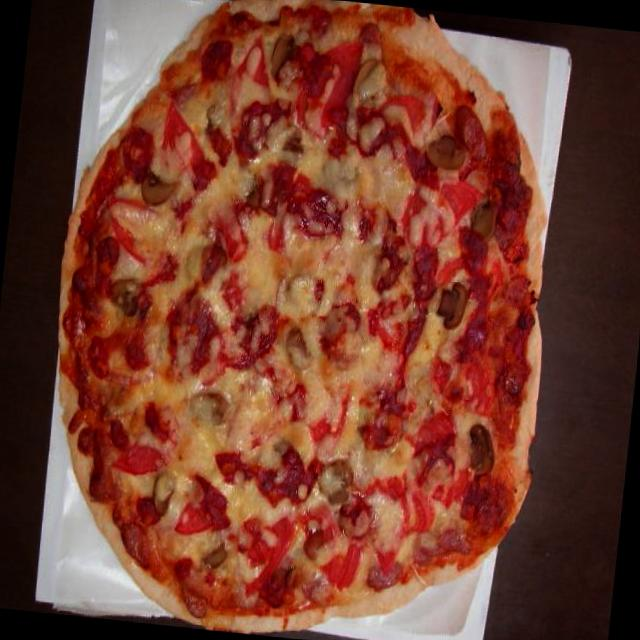Pizza: (20, 0, 584, 640)
